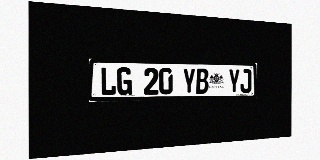0: (159, 68, 173, 94)
2: (144, 68, 158, 95)
B: (196, 68, 208, 94)
G: (117, 67, 132, 95)
J: (240, 69, 251, 93)
L: (100, 67, 116, 96)
Y: (182, 68, 195, 94), (228, 69, 240, 93)
